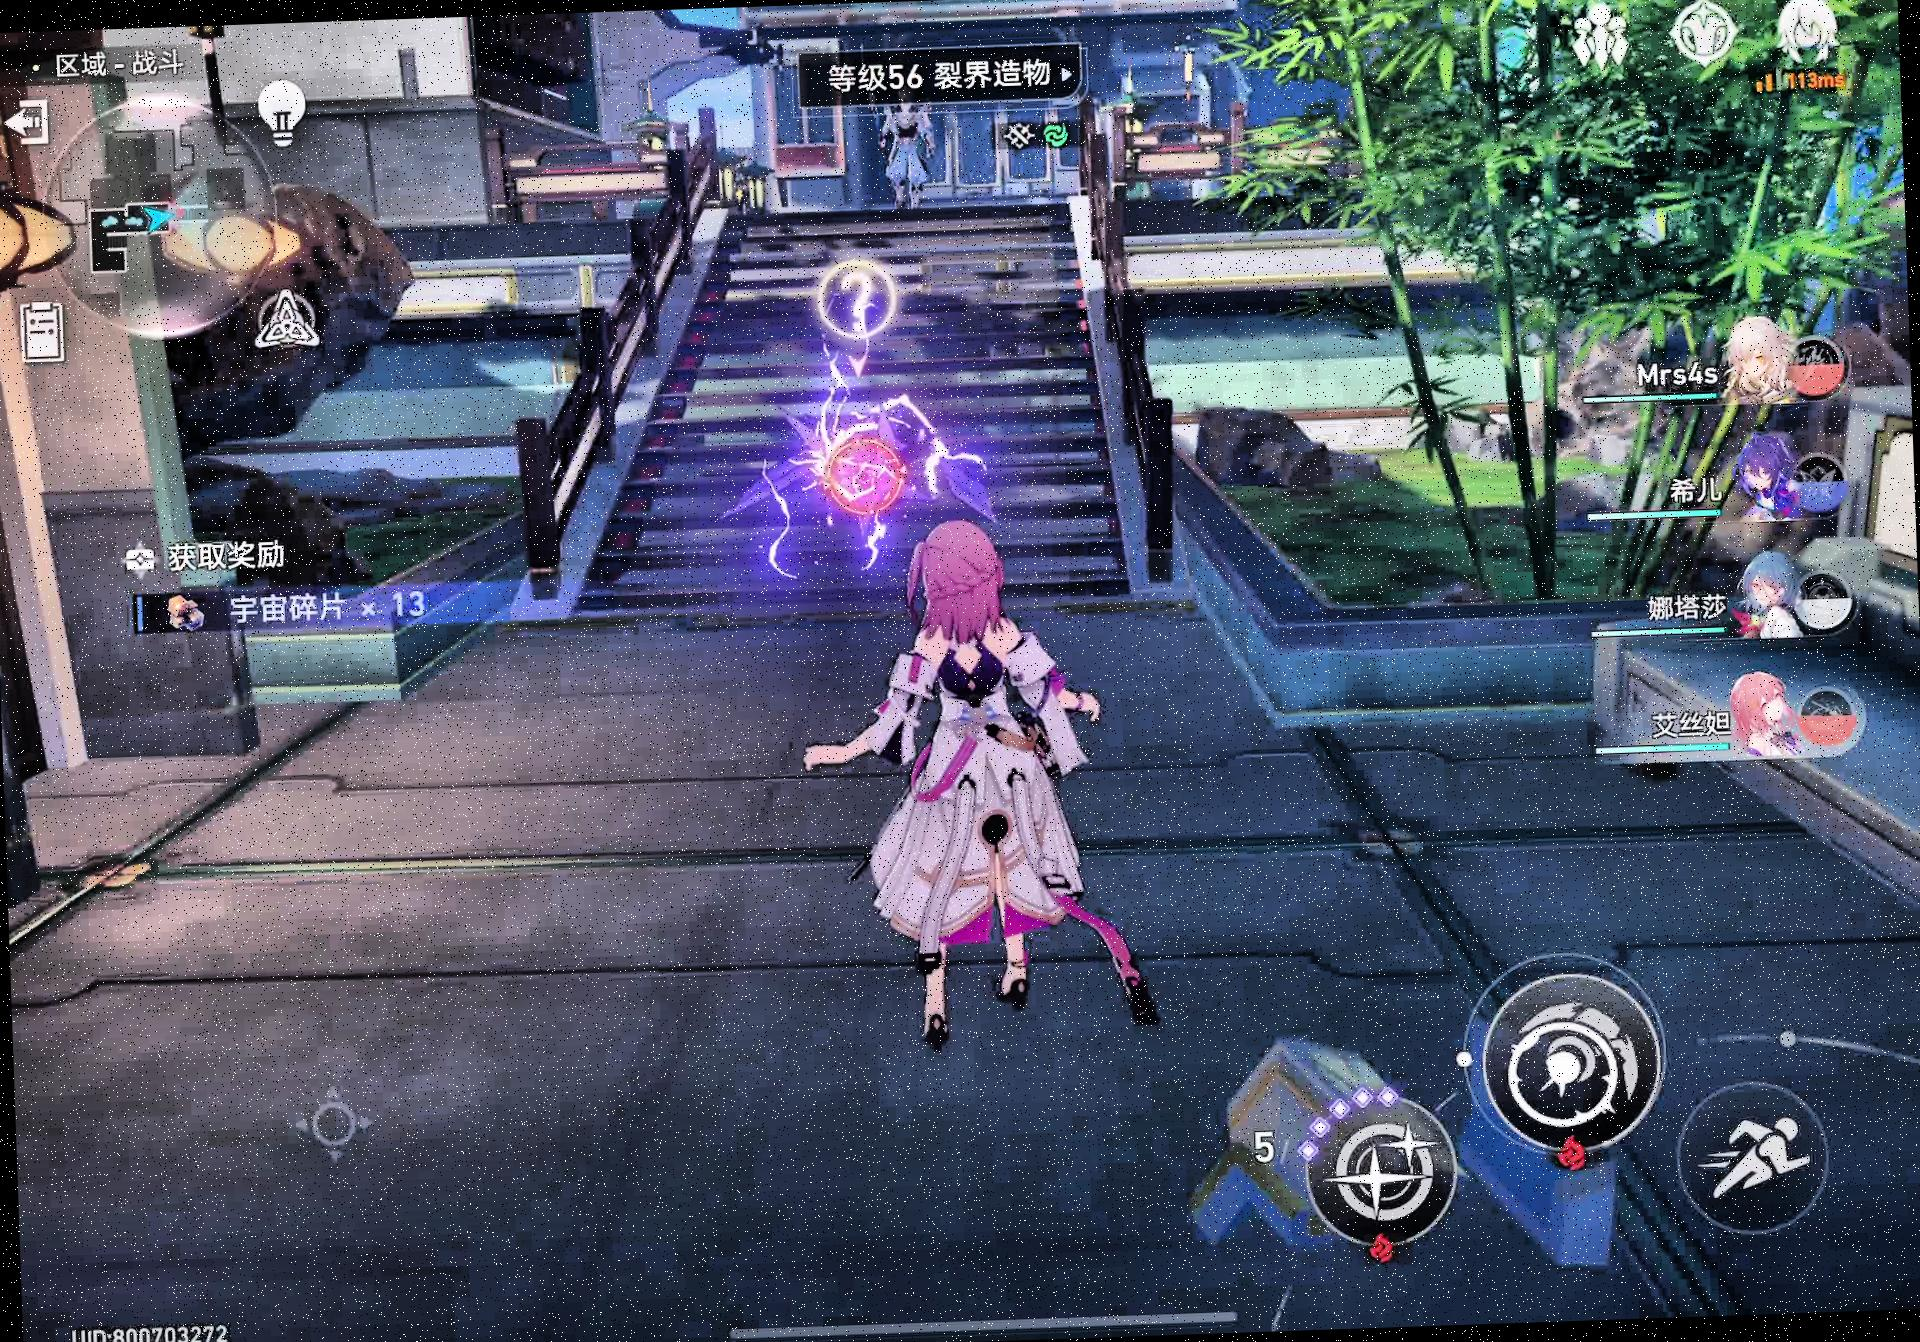Enemy: (741, 356, 1004, 538), (864, 74, 947, 210)
Self: (791, 511, 1169, 1060)
